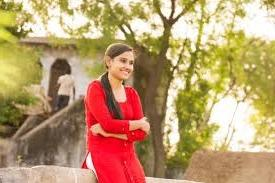Human: (77, 41, 150, 183)
